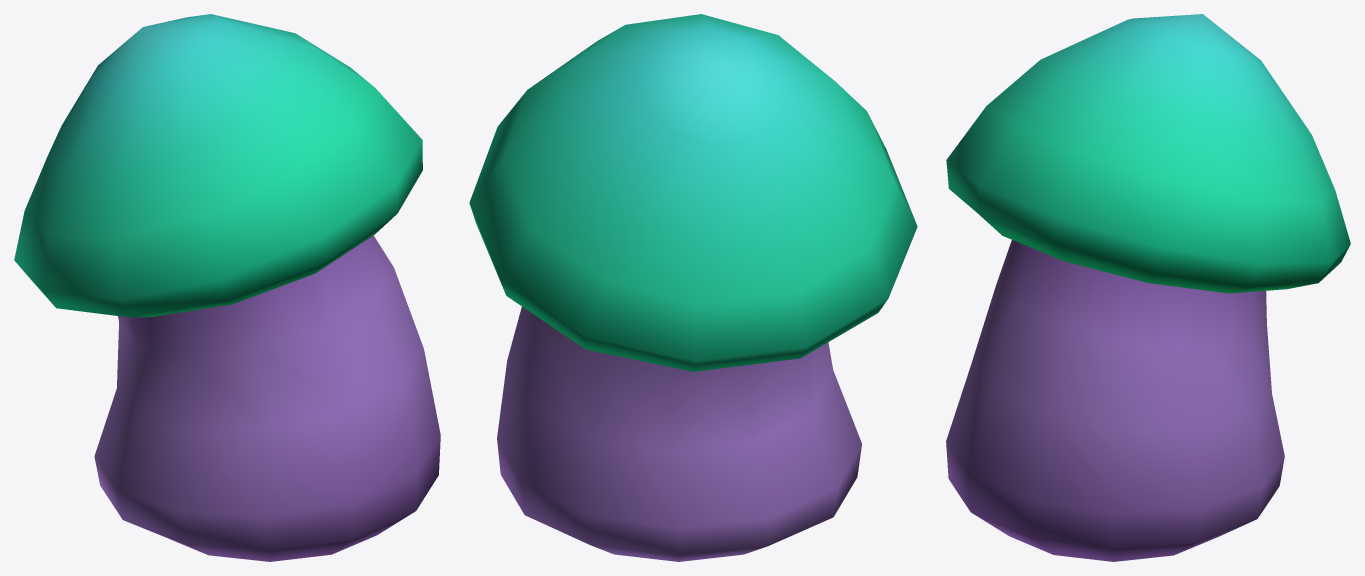
Rendered from obstacle-small_mushroom_H1.glb.
3 views of the same model, side by side, from view 1: azimuth 30°, elevation 25°; view 2: azimuth 150°, elevation 25°; view 3: azimuth 270°, elevation 25° (orthographic). The views are drawn at different scales.
Parts seen in each view (by area): view 1: obstacle-small_mushroom_H1; view 2: obstacle-small_mushroom_H1; view 3: obstacle-small_mushroom_H1.
Boxes of the visible parts, <box> form: obstacle-small_mushroom_H1: <box>14,14,440,561</box>; obstacle-small_mushroom_H1: <box>469,14,917,561</box>; obstacle-small_mushroom_H1: <box>946,14,1350,561</box>.
Bounding box in the file's own units: 1.73 × 2.17 × 1.72.
